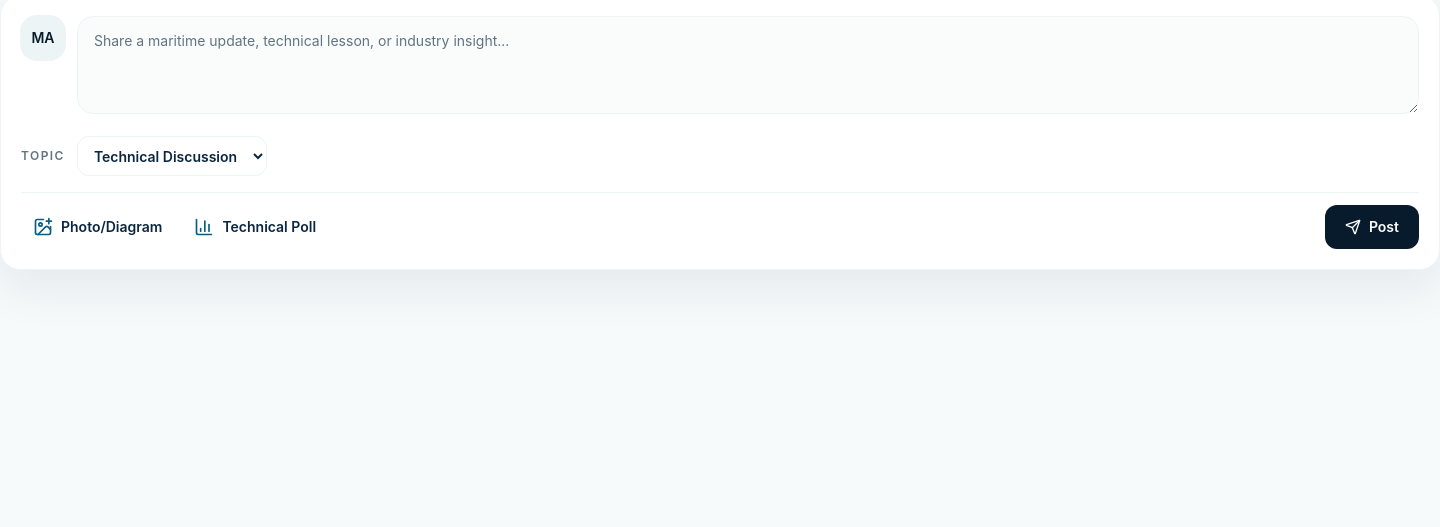
PostComposer › opens poll fields and keeps at least two choices
The image size is (1440, 527).
Click the button "Technical Poll" at (255, 227), box [182,205,328,249]
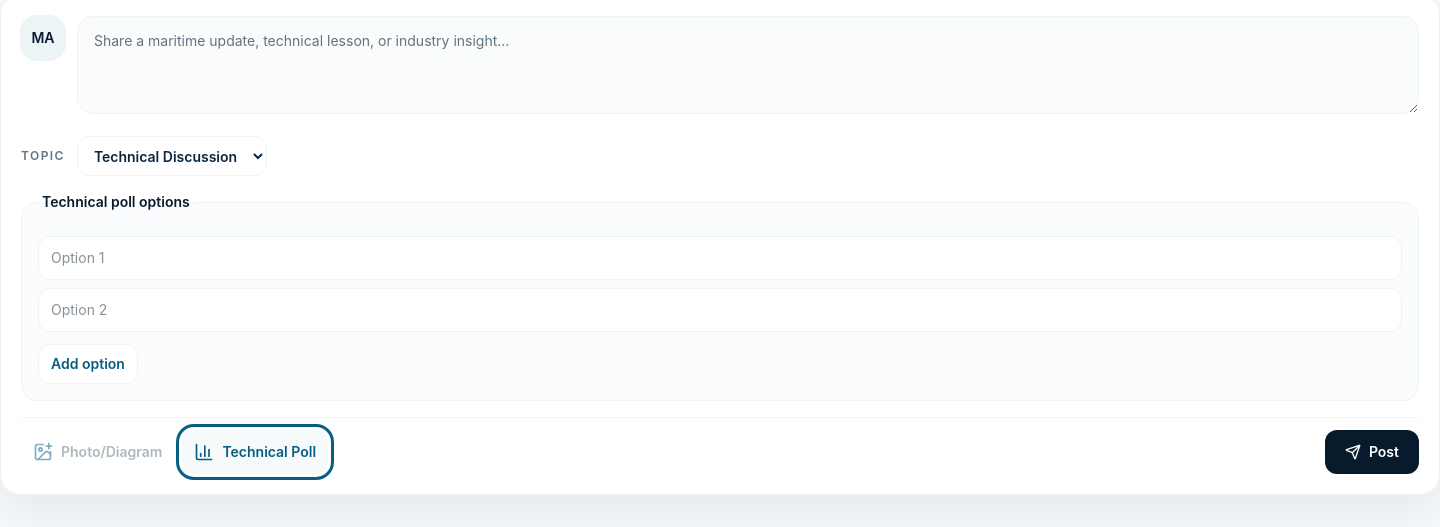
Expected: the field named "Poll option 1" is shown, [38,236,1402,280]
Expected: the field named "Poll option 2" is shown, [38,288,1402,332]
Expected: the button "Add option" is shown, [38,344,138,384]
